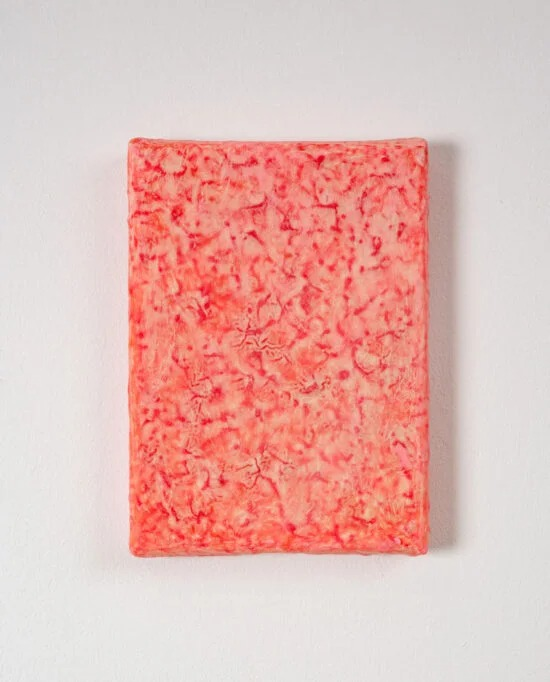painting: (127, 137, 430, 558)
